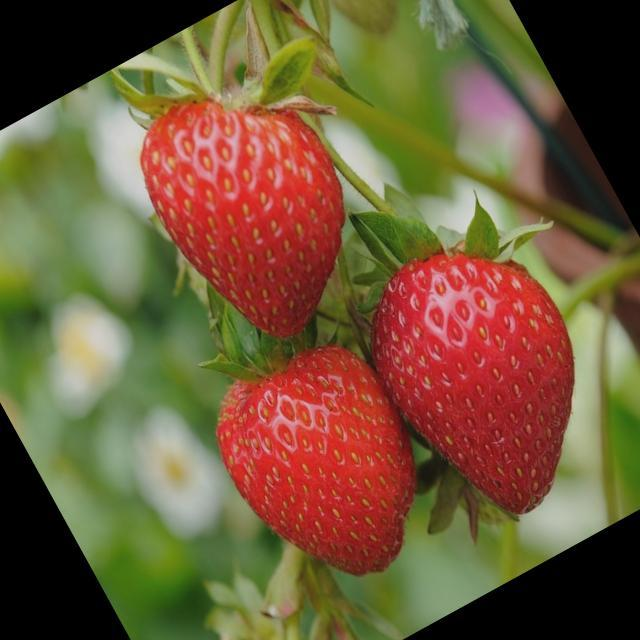strawberry: (372, 254, 574, 514), (141, 100, 345, 337), (216, 345, 415, 574)
